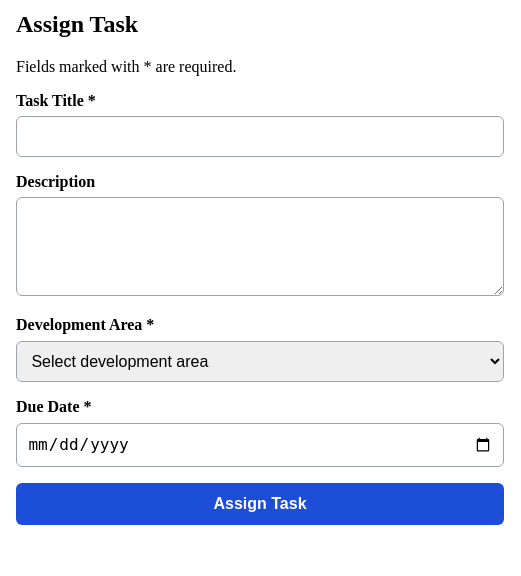
Test: TaskForm › sends task data to the correct API endpoint
Type "Read a book" into the field labelled "Task Title *" at (260, 137), box [16,116,504,157]
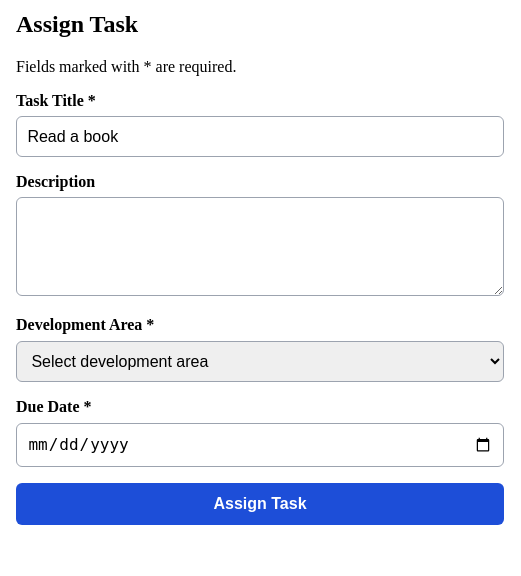
Type "Read for 15 minutes" into the text box labelled "Description" at (260, 247), box [16,197,504,296]
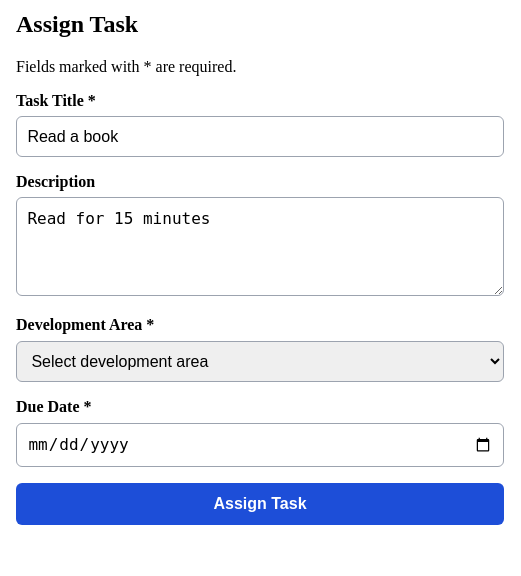
Select "Language" in the dropdown labelled "Development Area *" at (260, 361), box [16,340,504,382]
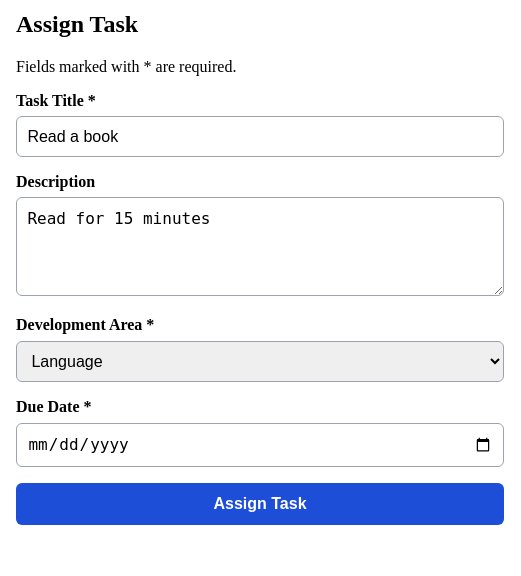
Type "2026-12-01" into the date field labelled "Due Date *" at (260, 445), box [16,423,504,466]
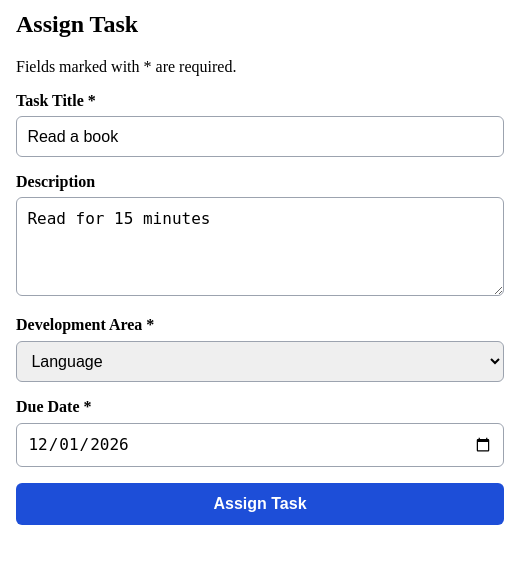
Click the button "Assign Task" at (260, 504), box [16,482,504,524]
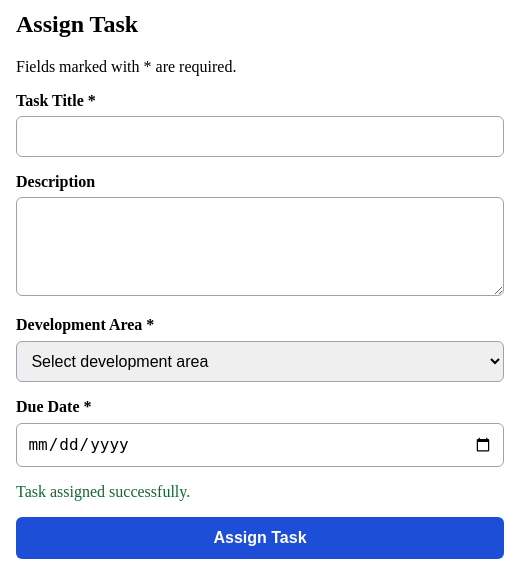
Now the message reads "Task assigned successfully.", box [16,482,190,500]
